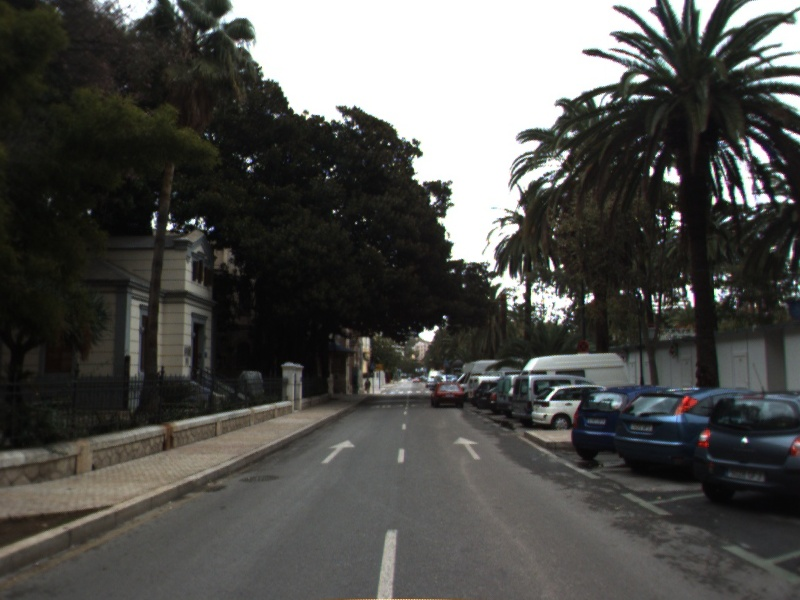STRAIGHT: (319, 438, 358, 465), (451, 434, 484, 461)
